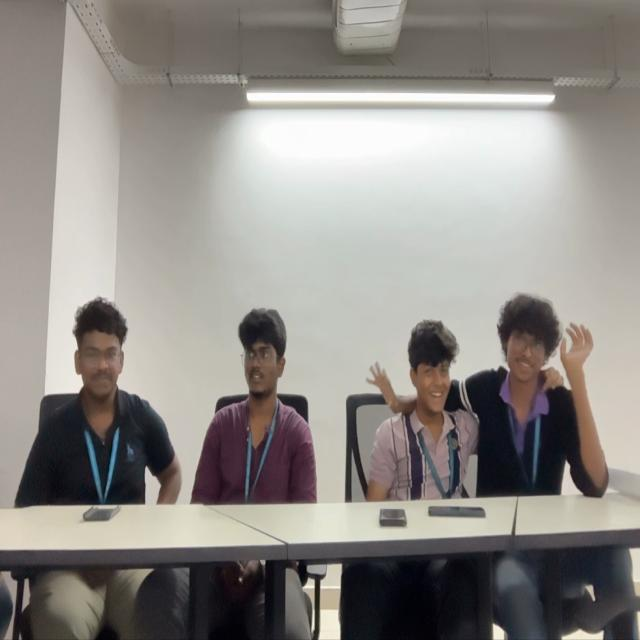Isolated: (17, 305, 180, 510), (196, 304, 320, 501)
socializing: (367, 282, 609, 500)
